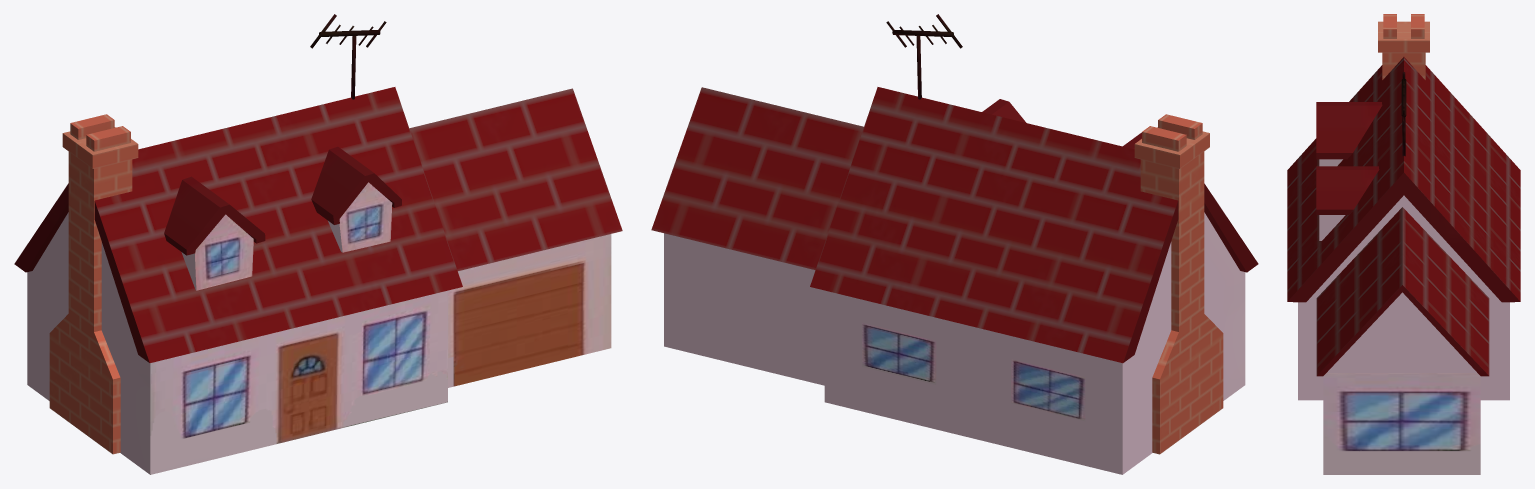
Rendered from CasaDexter.obj.
3 renders of one model, left to right at view 1: azimuth 30°, elevation 25°; view 2: azimuth 150°, elevation 25°; view 3: azimuth 270°, elevation 25°, orthographic. The views are drawn at different scales.
Visible parts, largest first — view 1: Casa; view 2: Casa; view 3: Casa.
Boxes of the visible parts, <box> form: Casa: <box>14,14,622,474</box>; Casa: <box>651,14,1258,474</box>; Casa: <box>1287,14,1520,474</box>.
Size of the model in its own units: 3.63 by 2.5 by 1.72.
